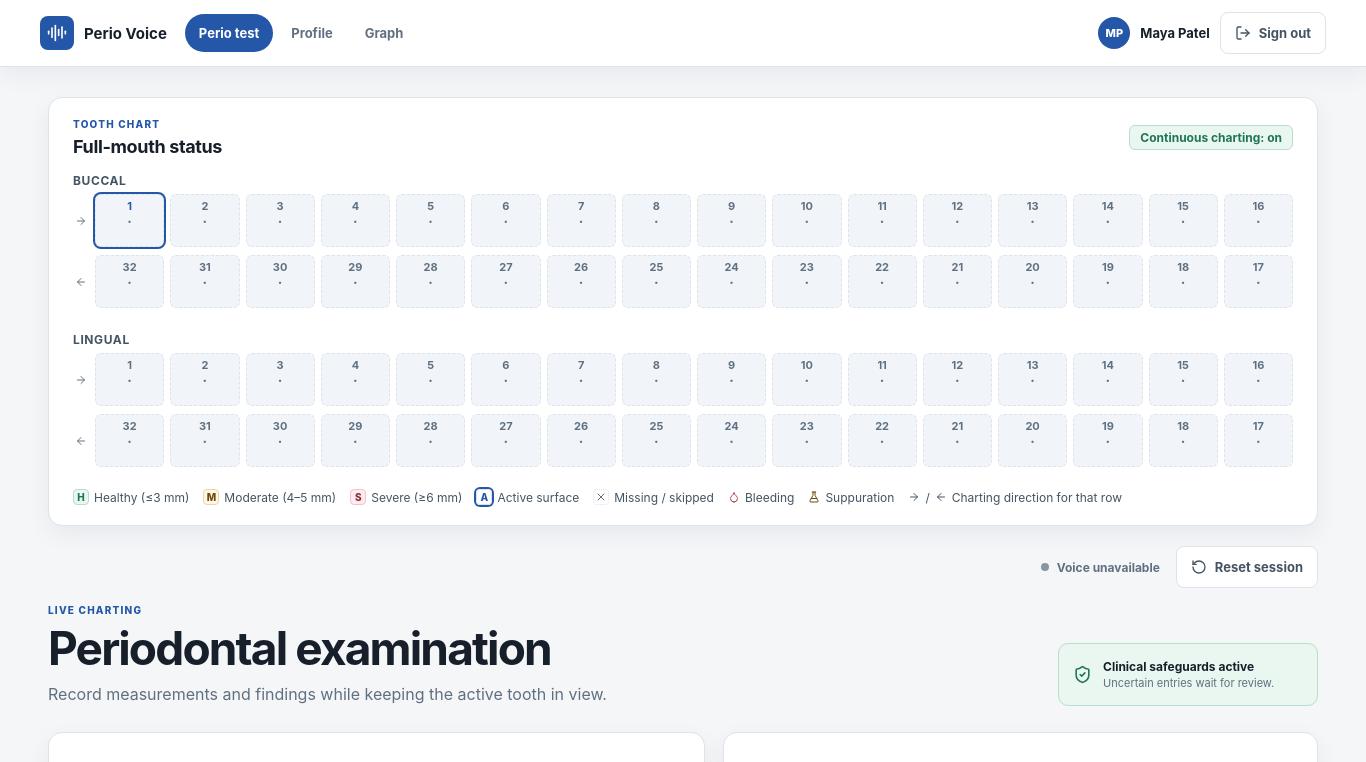
it: full-mouth workflow controls › only offers speaker enforcement once a voice is enrolled
This screenshot has width=1366, height=762.
Click the link "Profile".
click(312, 33)  # box [291,25,333,41]
(page scrolled)
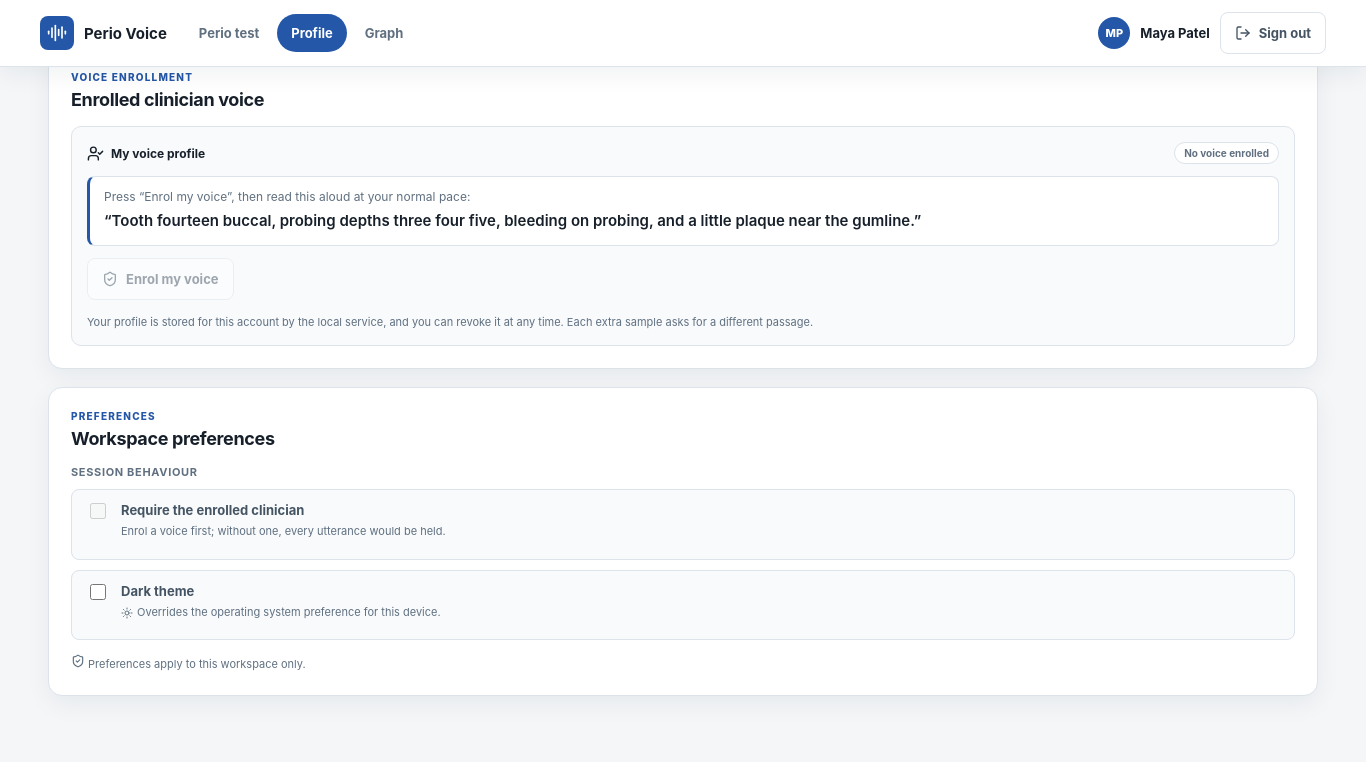
Result: the checkbox labelled "Require the enrolled clinician" is disabled at [90,504,106,520]
Result: the text "Enrol a voice first" is shown at [121,524,446,538]
